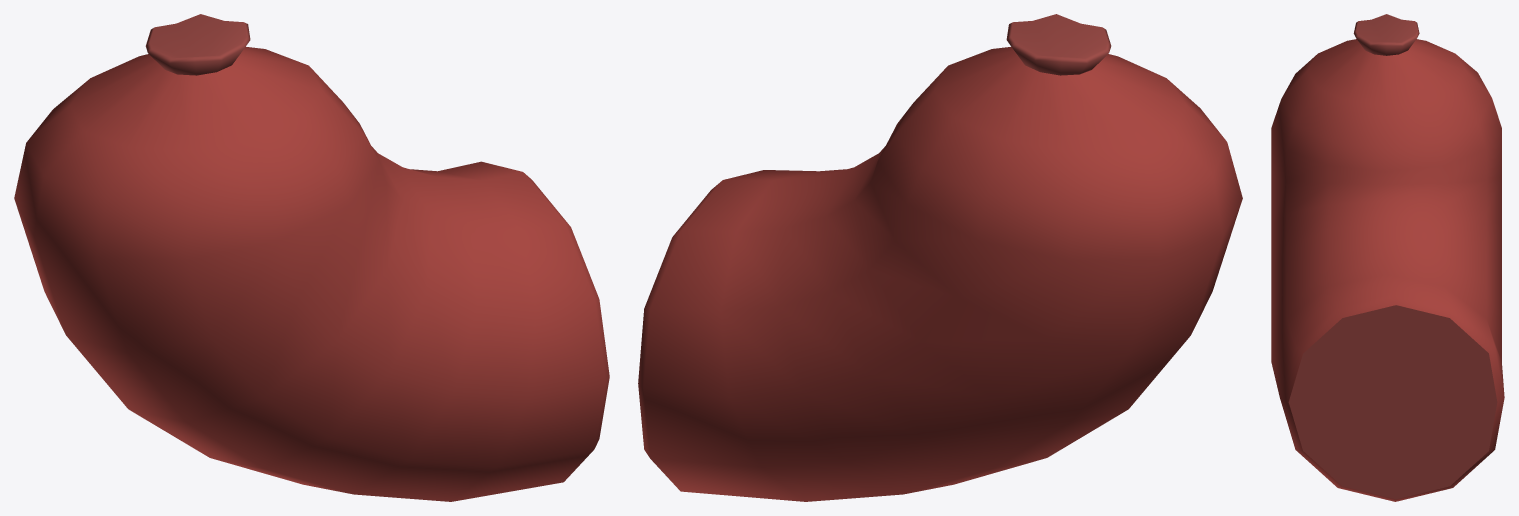
The model's file is Sausage_mini_half.003.fbx.
3 views of the same model, side by side, from view 1: azimuth 30°, elevation 25°; view 2: azimuth 150°, elevation 25°; view 3: azimuth 270°, elevation 25° (orthographic). The views are drawn at different scales.
Parts seen in each view (by area): view 1: Sausage_mini_half.003; view 2: Sausage_mini_half.003; view 3: Sausage_mini_half.003.
Boxes of the visible parts, x1,y1,x2,y2 form: Sausage_mini_half.003: [14, 14, 609, 501]; Sausage_mini_half.003: [638, 14, 1242, 501]; Sausage_mini_half.003: [1271, 14, 1504, 501].
Bounding box in the file's own units: 61.69 × 35.56 × 61.13.
